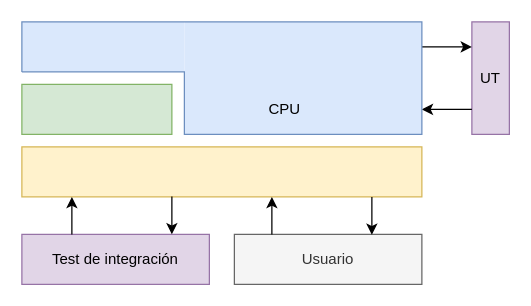
Some shapes in this 531 by 306 pixel diagram are drawn without their labels. The shapes that lost their labels are listed below. From the top down, each one's centre as x and y in pixels, then its label:
At point (96, 108): "Memoria".
At point (221, 171): "API".
